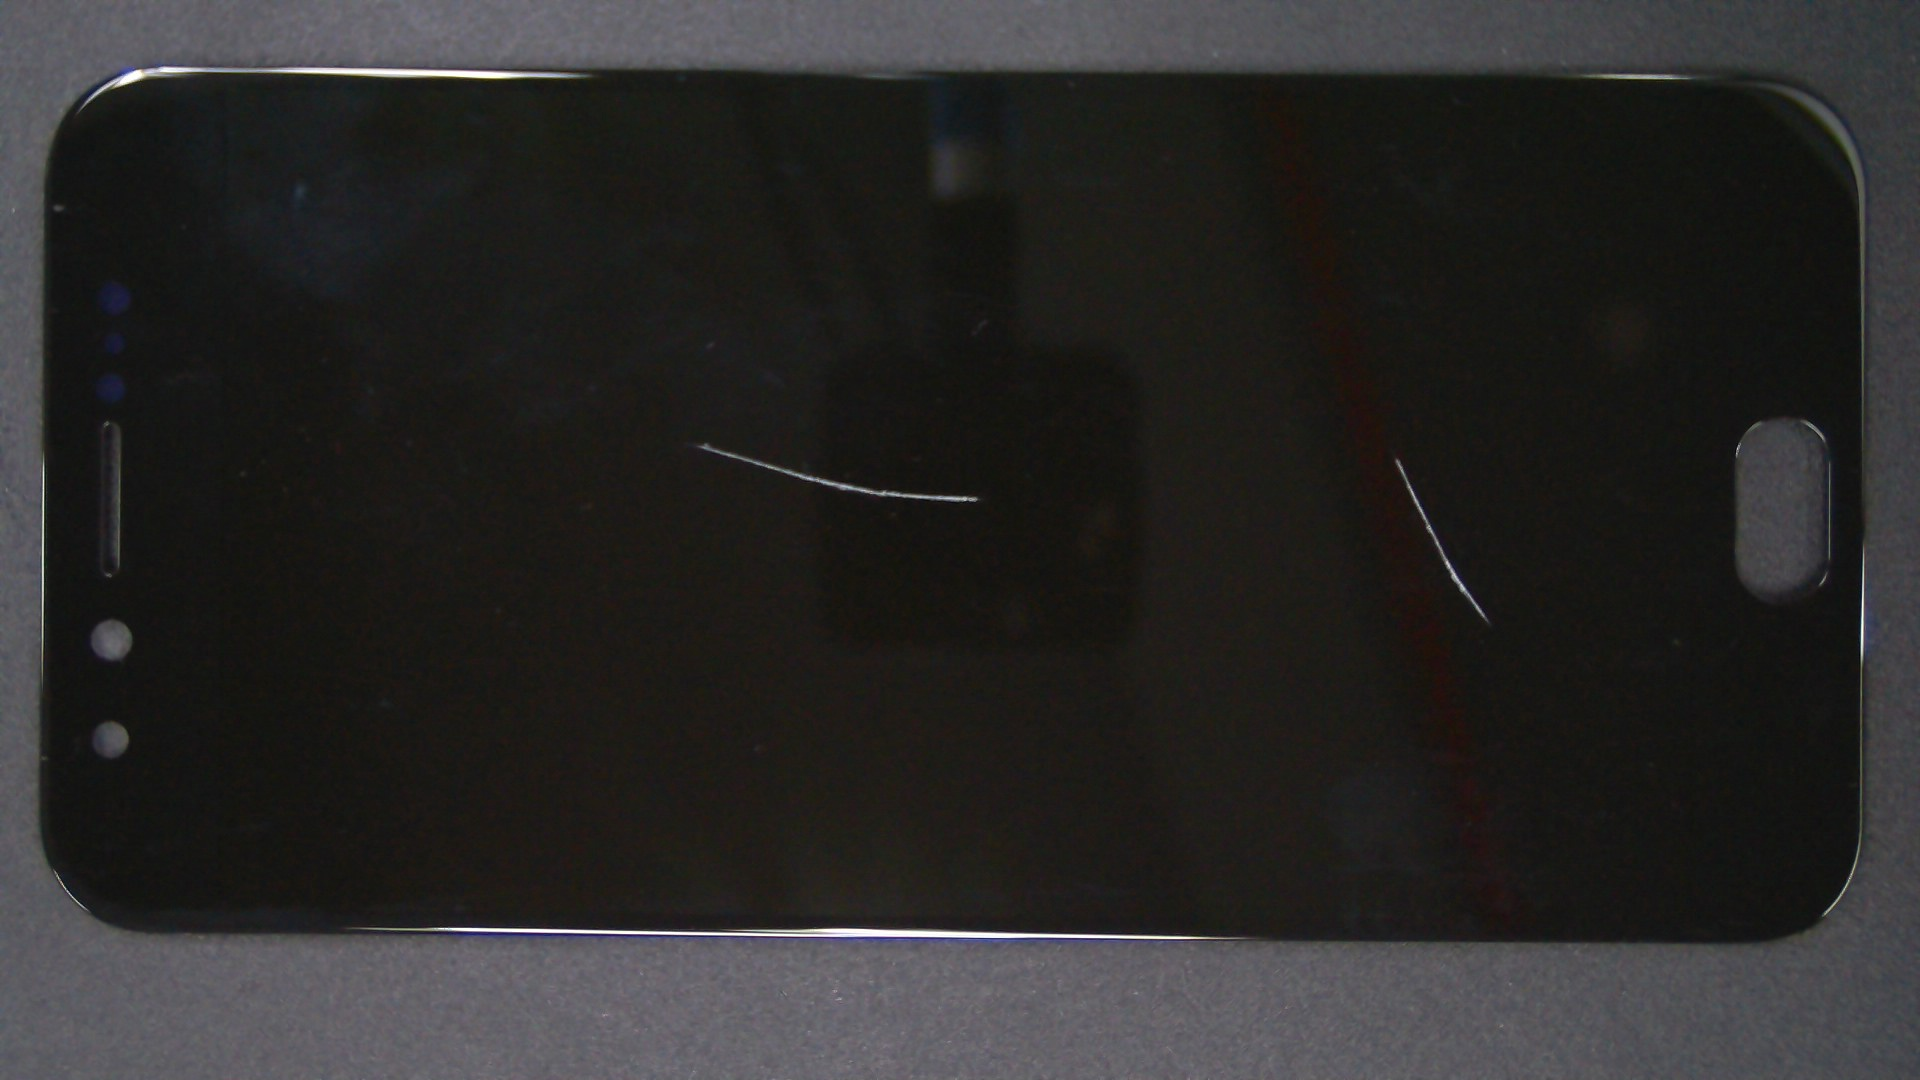oil: (699, 228, 1920, 687), (353, 220, 1059, 663)
